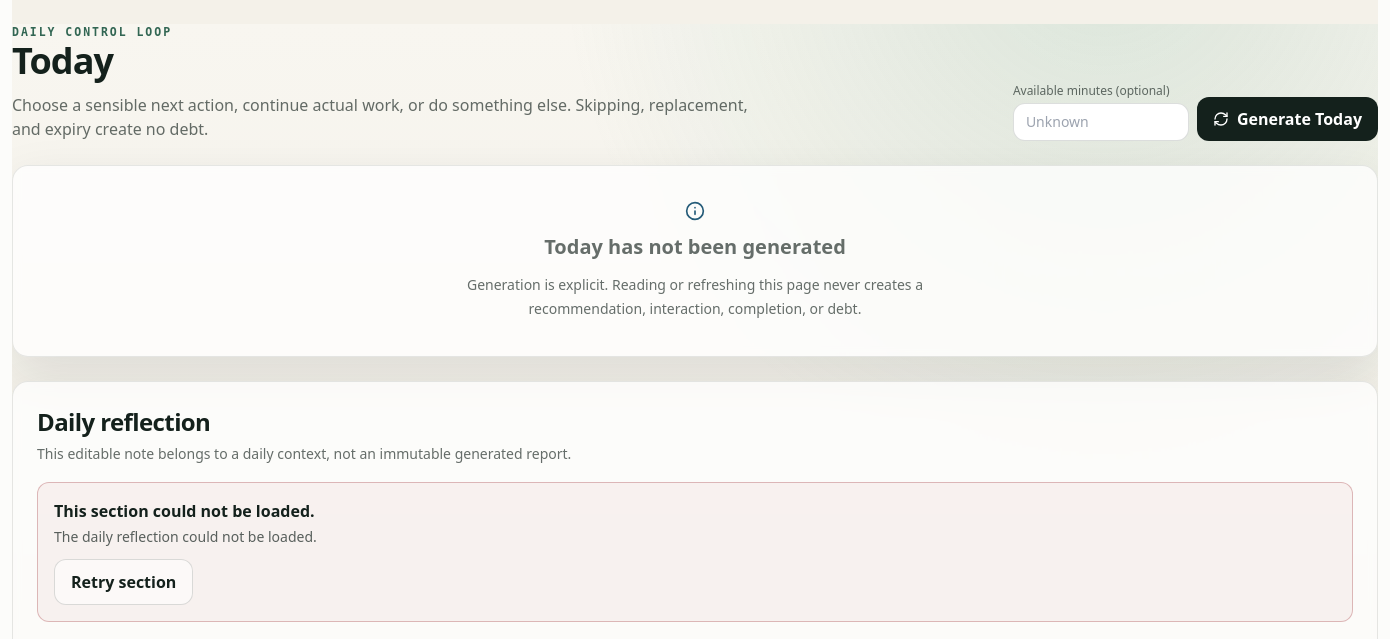
Test: Today daily control loop › keeps an authoritative generated Today portfolio when its follow-up refresh fails
The image size is (1390, 639).
Click the button "Generate Today": point(1287, 119) [1197, 97, 1378, 141]
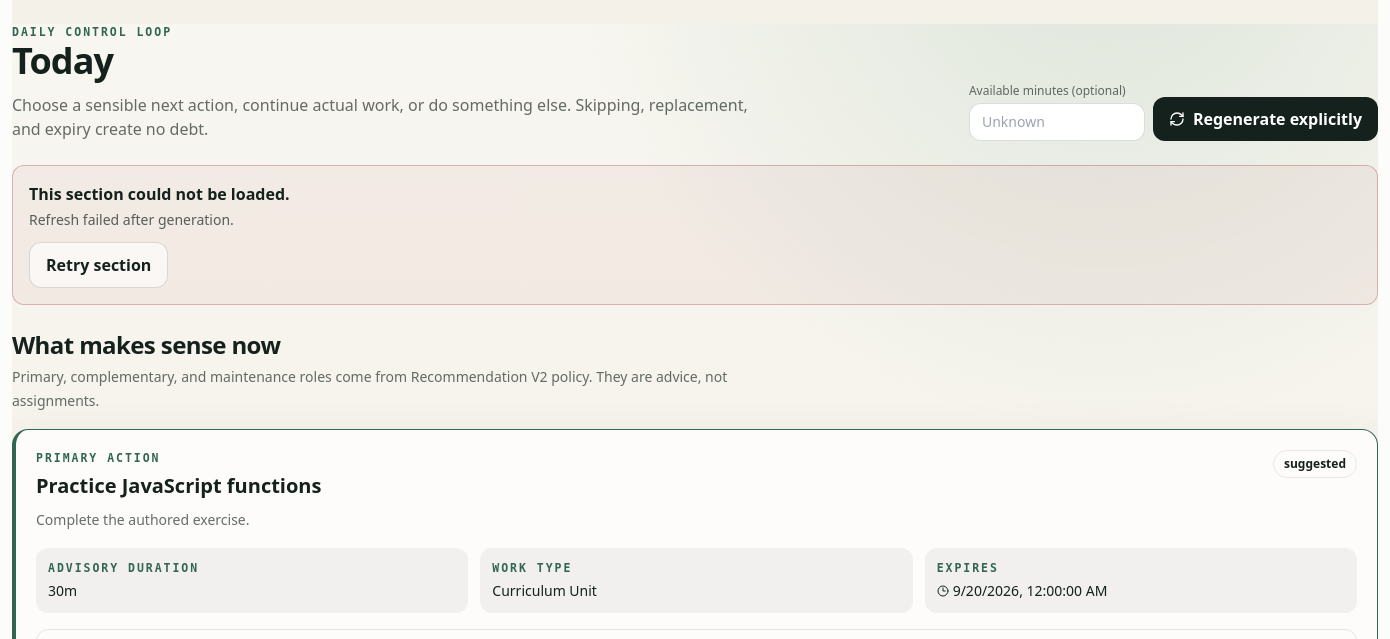
Check: the button "Regenerate explicitly" is enabled, box [1153, 97, 1378, 141]
Check: the heading "Practice JavaScript functions" is shown, box [36, 472, 321, 500]
Check: the text "Refresh failed after generation." is shown, box [29, 210, 234, 229]
